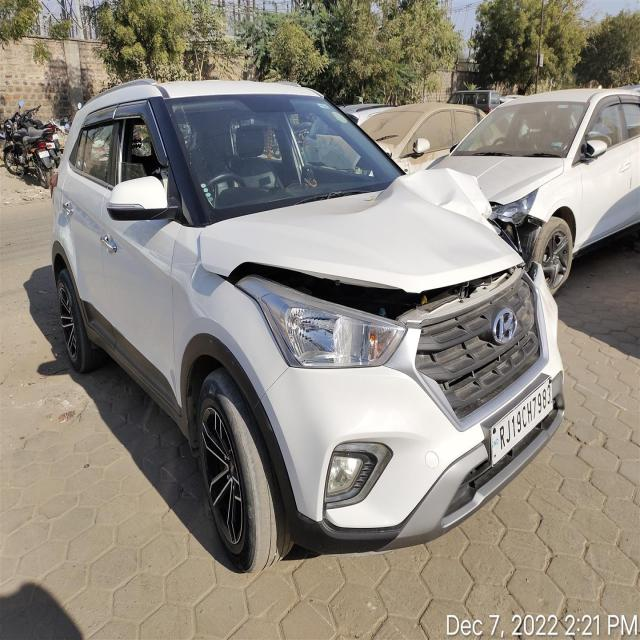damage: (335, 168, 515, 269), (490, 212, 537, 282), (534, 263, 559, 334)
